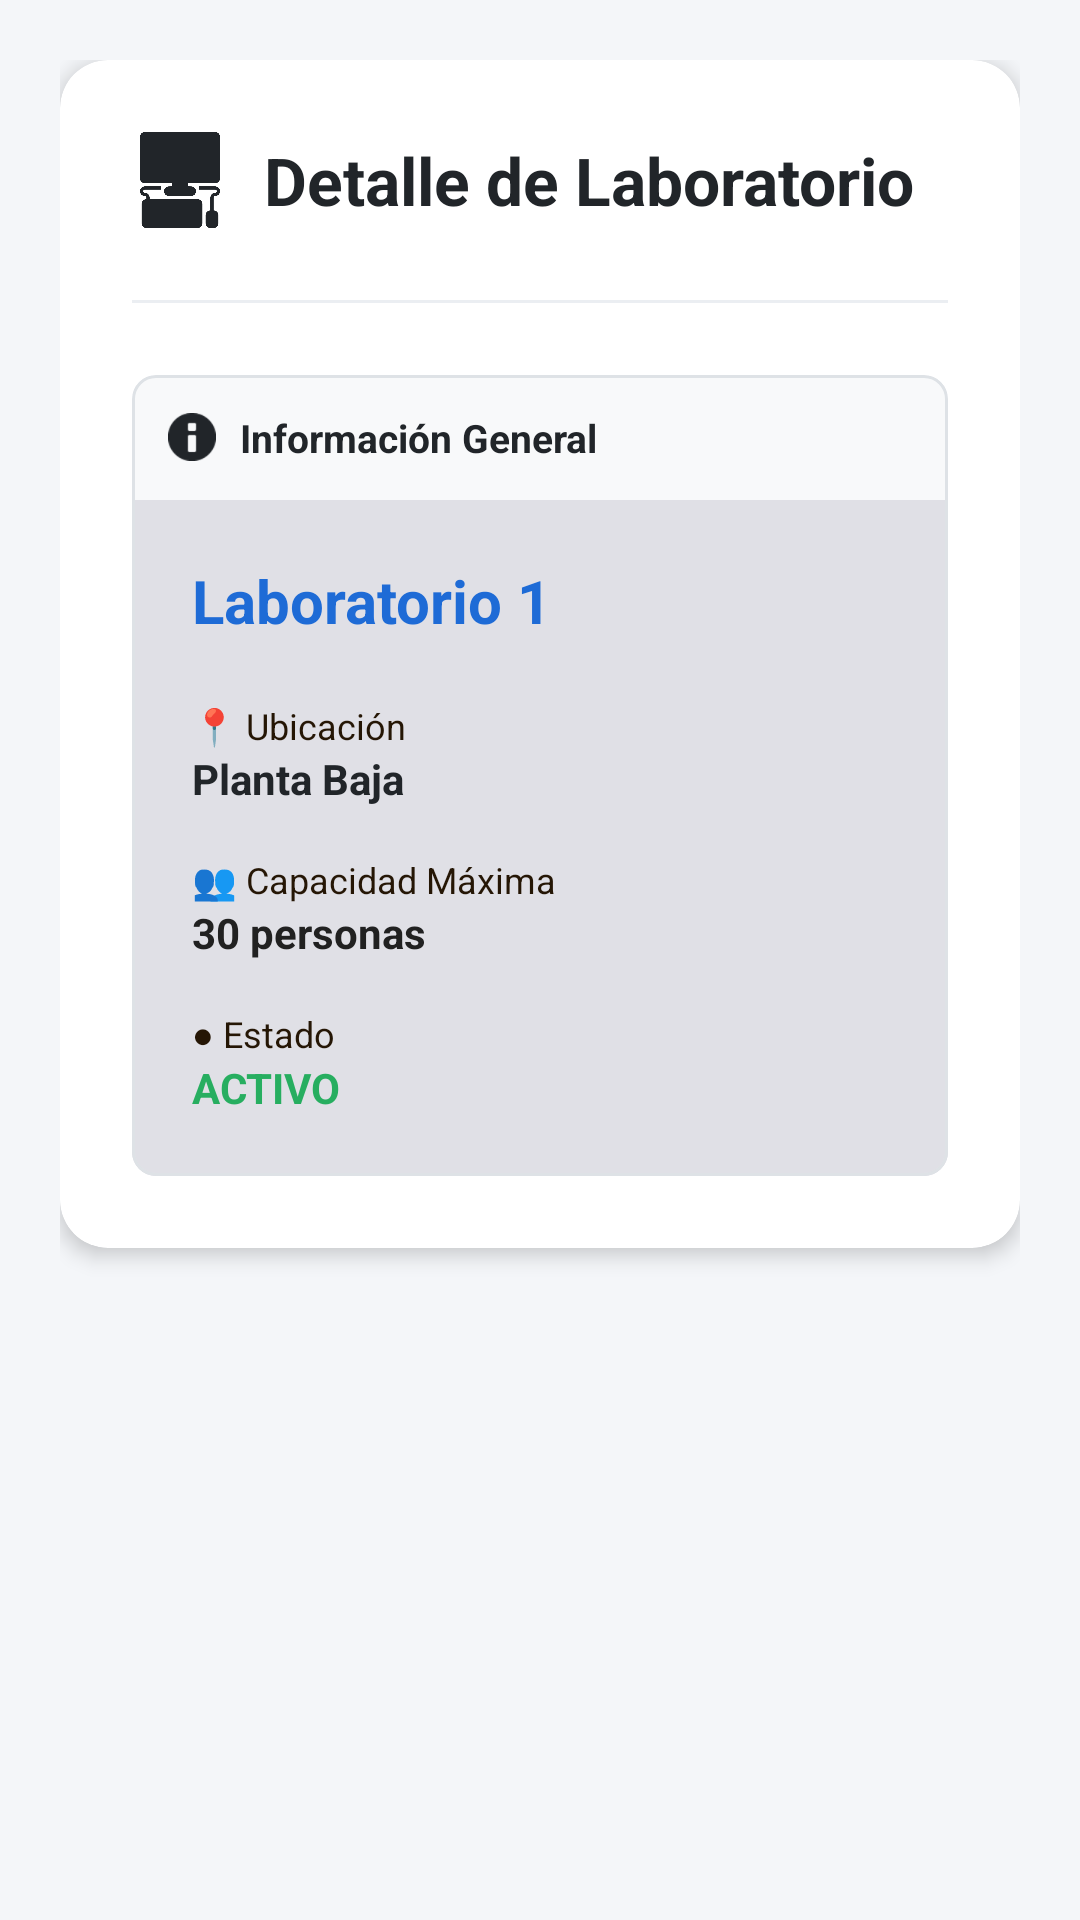

Locate icon controls on the screen. Image size 1080px×1920px, boxes as (x1, y1, x2, y2).
lab: (140, 132, 220, 228)
